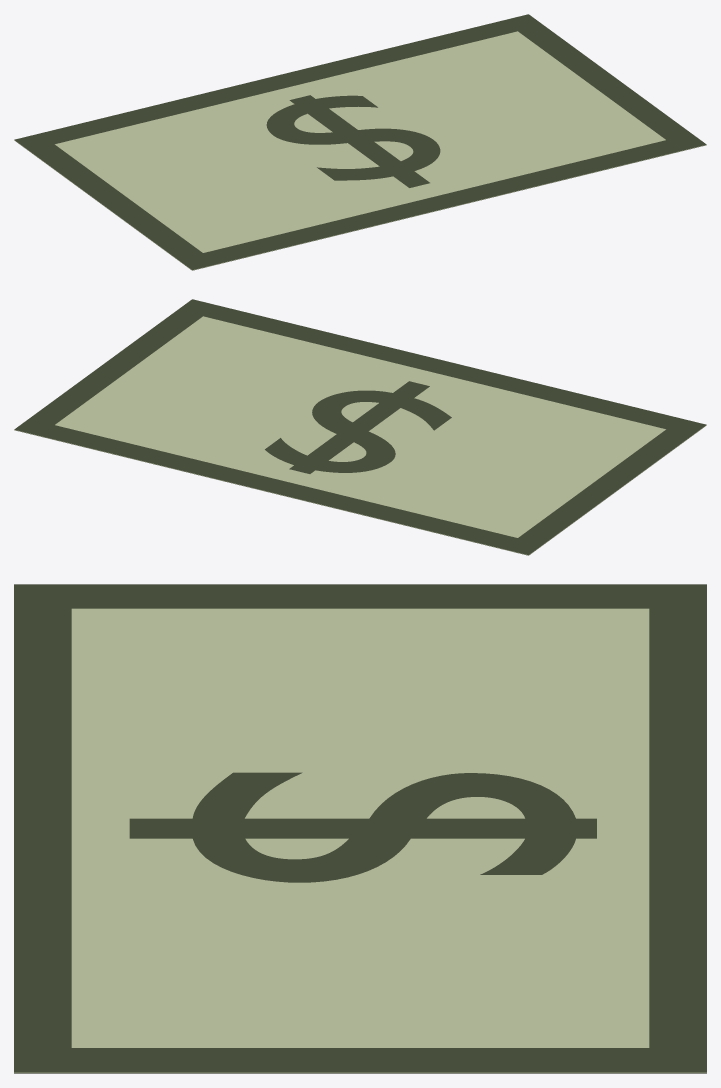
File: Printer-bill-dollar.glb
The picture shows the model from 3 angles, top to bottom: view 1: azimuth 30°, elevation 25°; view 2: azimuth 150°, elevation 25°; view 3: azimuth 270°, elevation 25°; orthographic projection. The views are drawn at different scales.
Parts seen in each view (by area): view 1: Plane, FrameFront, DollarFront, FrameBack; view 2: Plane, FrameFront, DollarFront, FrameBack; view 3: Plane, FrameFront, DollarFront.
Part boxes in pixels (x1,y1,x2,y2): Plane: [14, 31, 705, 270]; FrameFront: [14, 14, 706, 270]; DollarFront: [266, 95, 440, 187]; FrameBack: [14, 140, 706, 270]; Plane: [15, 316, 706, 555]; FrameFront: [14, 299, 706, 555]; DollarFront: [265, 381, 451, 473]; FrameBack: [14, 425, 706, 555]; Plane: [14, 608, 706, 1072]; FrameFront: [14, 584, 706, 1072]; DollarFront: [129, 772, 596, 882].
Bounding box in the file's own units: 2 × 0.002 × 1.2.
